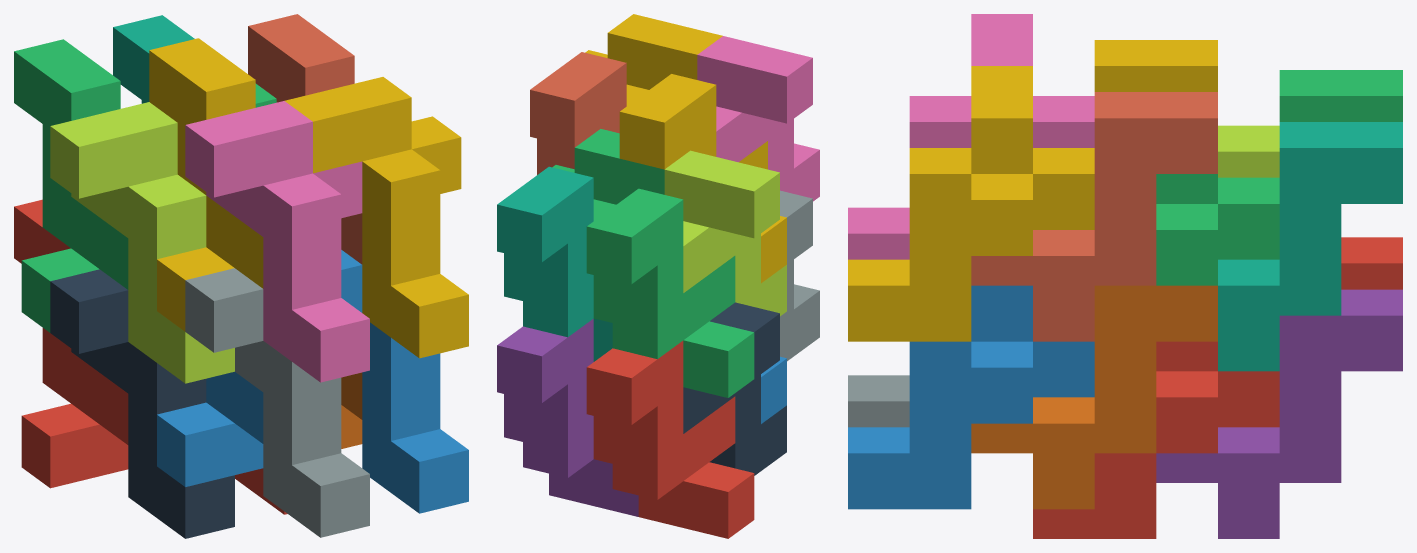
File: tiling.obj
The picture shows the model from 3 angles, left to right: view 1: azimuth 30°, elevation 25°; view 2: azimuth 150°, elevation 25°; view 3: azimuth 270°, elevation 25°; orthographic projection. The views are drawn at different scales.
Parts seen in each view (by area): view 1: copy_2_domain_4, copy_2_domain_8, copy_2_domain_3, copy_2_domain_2, copy_2_domain_1, copy_1_domain_3, copy_2_domain_6, copy_1_domain_4, copy_1_domain_1, copy_1_domain_2, copy_1_domain_8, copy_1_domain_7 (+2 smaller); view 2: copy_1_domain_1, copy_1_domain_3, copy_1_domain_5, copy_1_domain_7, copy_2_domain_3, copy_2_domain_4, copy_1_domain_4, copy_1_domain_8, copy_2_domain_1, copy_2_domain_8, copy_2_domain_2, copy_2_domain_7 (+1 smaller); view 3: copy_2_domain_8, copy_2_domain_6, copy_1_domain_8, copy_1_domain_5, copy_1_domain_7, copy_1_domain_6, copy_2_domain_5, copy_2_domain_4, copy_2_domain_7, copy_1_domain_3, copy_1_domain_4, copy_1_domain_1 (+2 smaller).
Part boxes in pixels (x1,y1,x2,y2): copy_2_domain_4: [185, 101, 369, 382]; copy_2_domain_8: [284, 77, 468, 358]; copy_2_domain_3: [50, 102, 234, 383]; copy_2_domain_2: [185, 268, 369, 537]; copy_2_domain_1: [50, 269, 234, 538]; copy_1_domain_3: [14, 39, 128, 332]; copy_2_domain_6: [341, 250, 468, 513]; copy_1_domain_4: [149, 38, 263, 331]; copy_1_domain_1: [14, 199, 128, 488]; copy_1_domain_2: [157, 371, 263, 486]; copy_1_domain_8: [248, 14, 362, 264]; copy_1_domain_7: [113, 15, 194, 103]; copy_1_domain_1: [586, 341, 754, 538]; copy_1_domain_3: [586, 188, 754, 397]; copy_1_domain_5: [497, 319, 638, 516]; copy_1_domain_7: [497, 166, 612, 361]; copy_2_domain_3: [664, 150, 786, 316]; copy_2_domain_4: [697, 36, 819, 201]; copy_1_domain_4: [619, 74, 786, 283]; copy_1_domain_8: [530, 52, 626, 174]; copy_2_domain_1: [683, 302, 786, 475]; copy_2_domain_8: [585, 14, 722, 105]; copy_2_domain_2: [780, 190, 819, 361]; copy_2_domain_7: [552, 129, 664, 220]; copy_2_domain_8: [848, 66, 1094, 341]; copy_2_domain_6: [848, 285, 1094, 509]; copy_1_domain_8: [971, 92, 1217, 341]; copy_1_domain_5: [1156, 289, 1402, 538]; copy_1_domain_7: [1218, 122, 1402, 371]; copy_1_domain_6: [971, 285, 1217, 509]; copy_2_domain_5: [1033, 341, 1279, 538]; copy_2_domain_4: [848, 14, 1094, 259]; copy_2_domain_7: [1156, 174, 1279, 285]; copy_1_domain_3: [1279, 70, 1402, 121]; copy_1_domain_4: [1094, 40, 1217, 91]; copy_1_domain_1: [1341, 237, 1402, 289].
Size of the model in its own units: 6 by 8 by 9.
